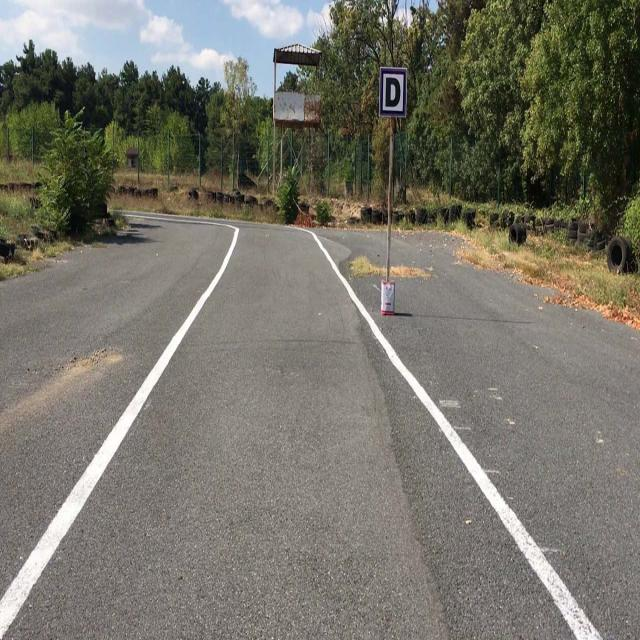durak: (380, 66, 406, 118)
